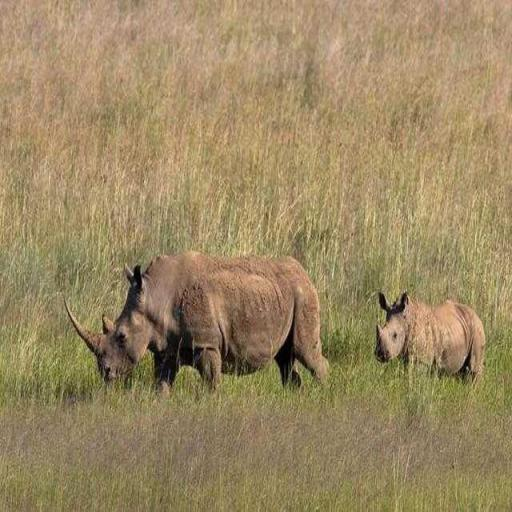Rhino: (63, 248, 330, 402), (374, 289, 486, 390)
